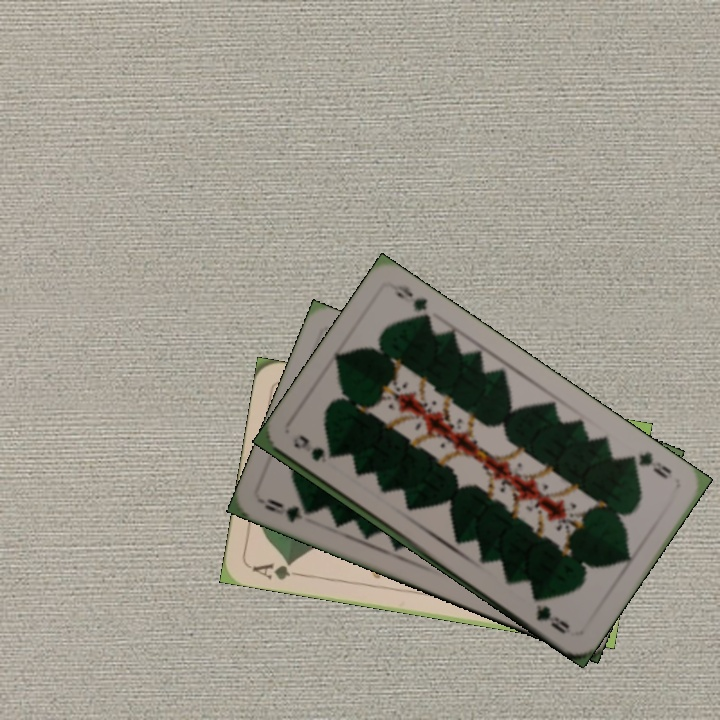G9: (260, 494, 316, 526), (623, 447, 674, 482), (290, 432, 338, 466)
GA: (249, 557, 306, 582)
